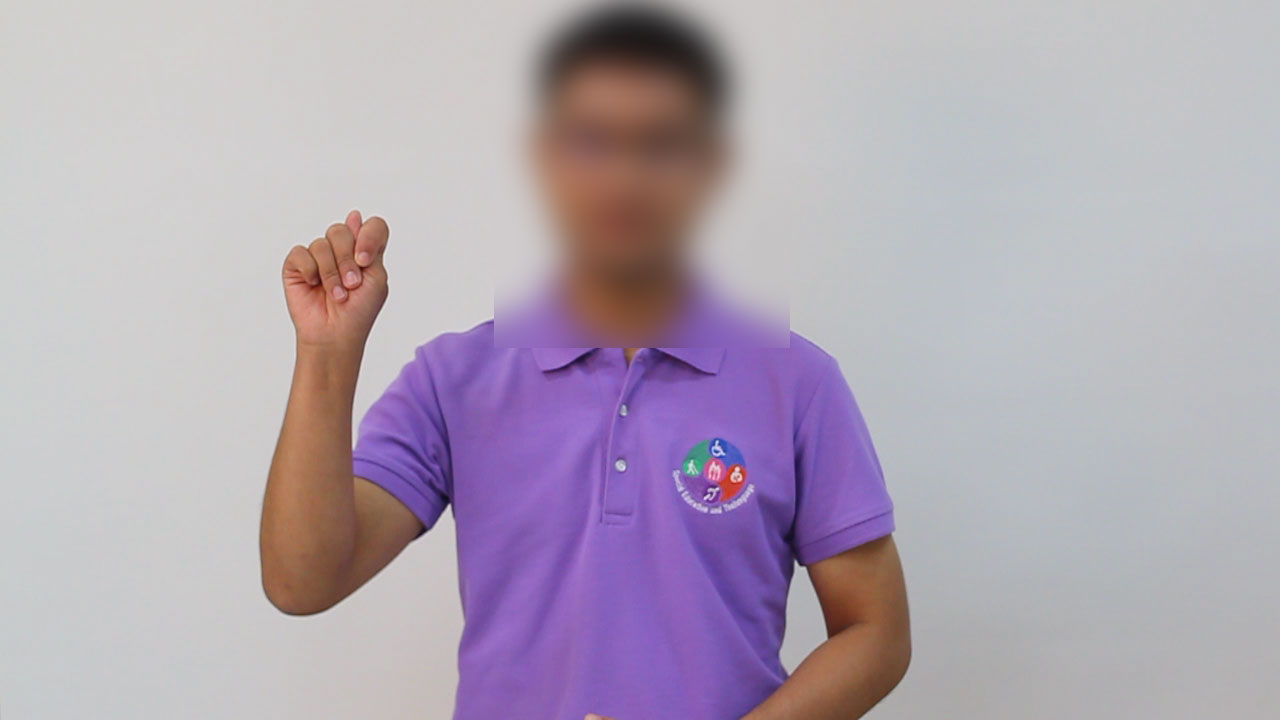tor: (271, 201, 403, 356)
